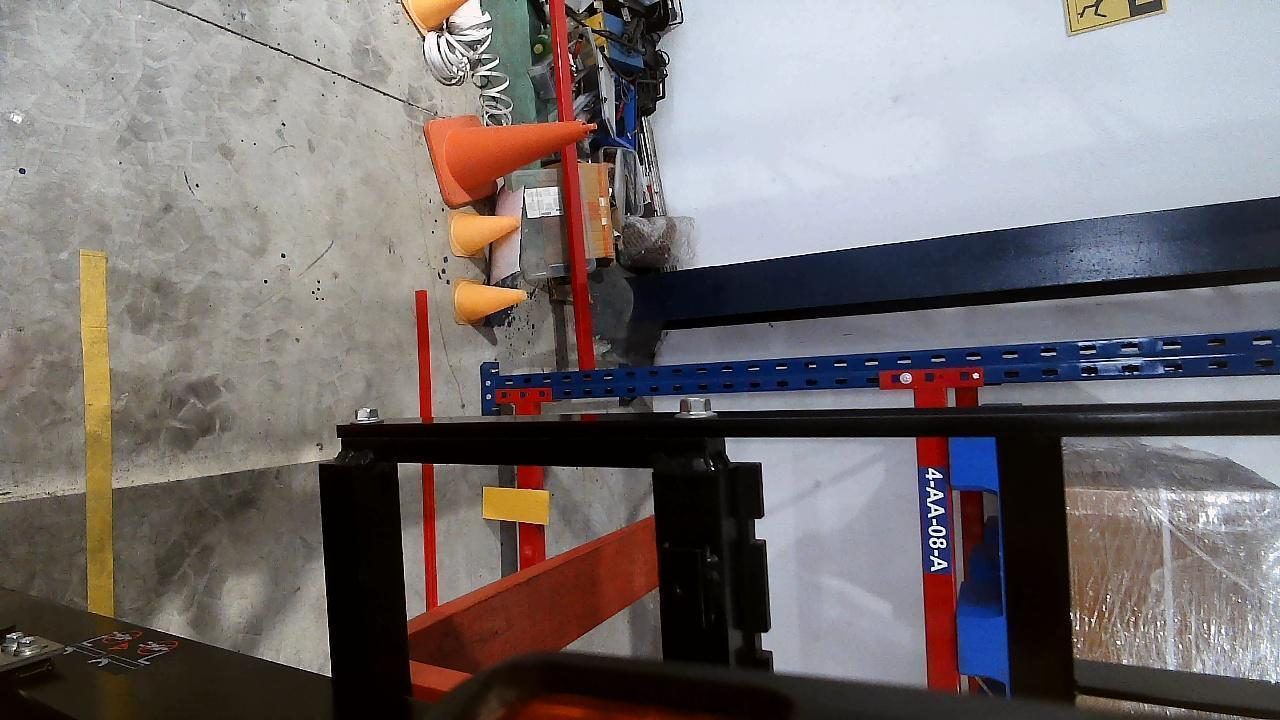red_line: (408, 287, 440, 607)
yellow_line: (79, 249, 113, 617)
